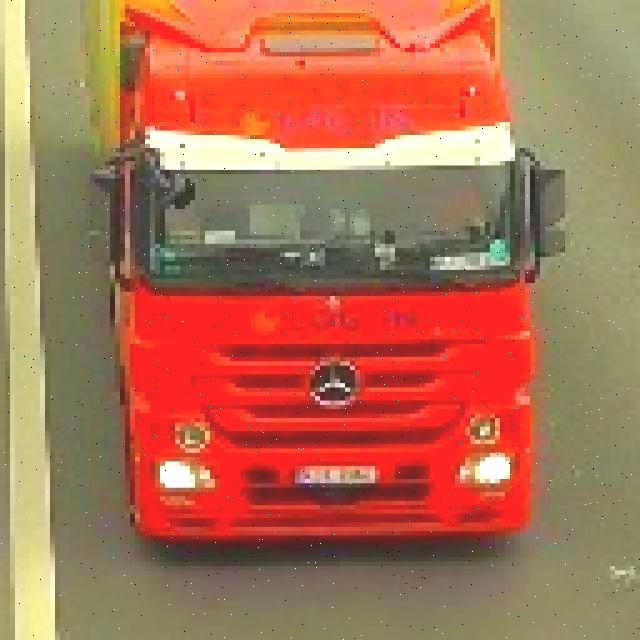truck: (120, 0, 570, 549)
